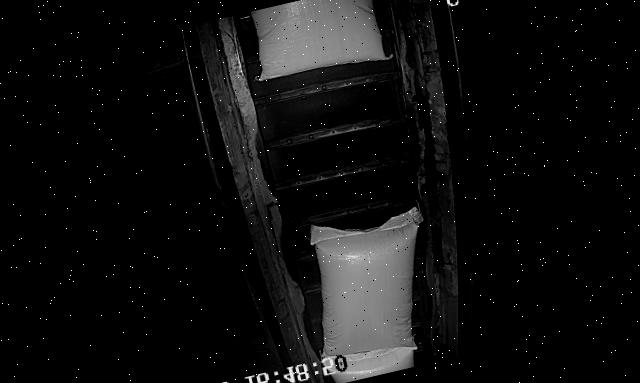bag: (290, 200, 449, 369), (242, 0, 392, 88), (322, 337, 417, 383)
